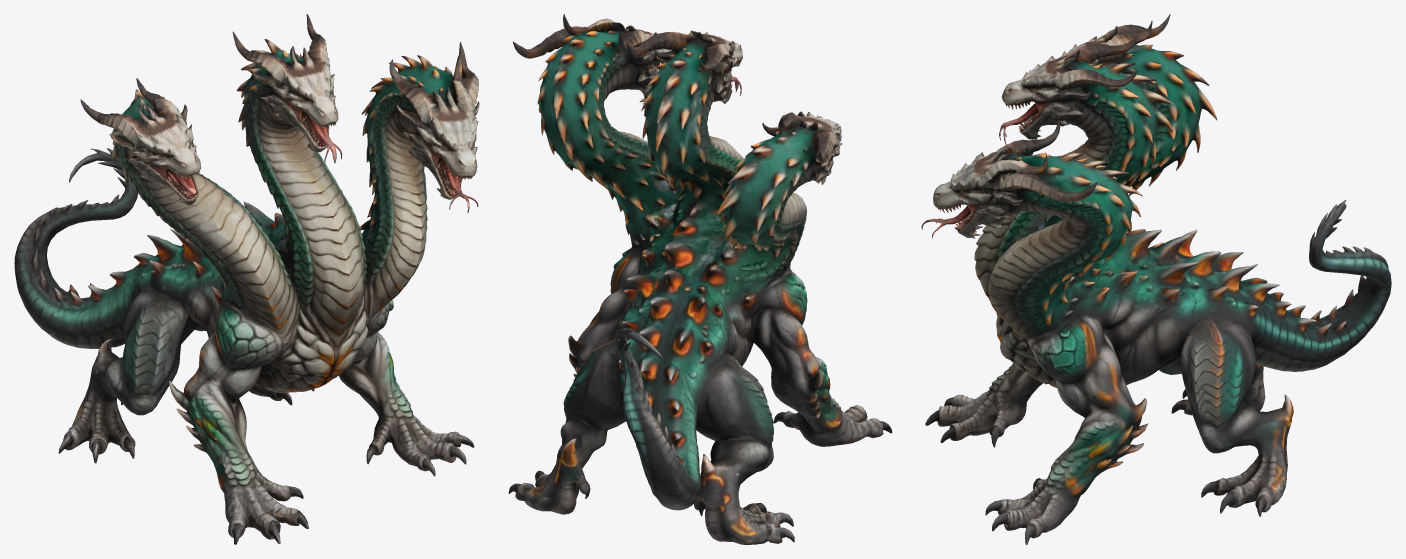
File: hydra__three-headed-emberwyrm.glb
3 views of the same model, side by side, from view 1: azimuth 30°, elevation 25°; view 2: azimuth 150°, elevation 25°; view 3: azimuth 270°, elevation 25° (orthographic).
Size of the model in its own units: 1.69 by 1.98 by 2.
1 material, 1 textured.
